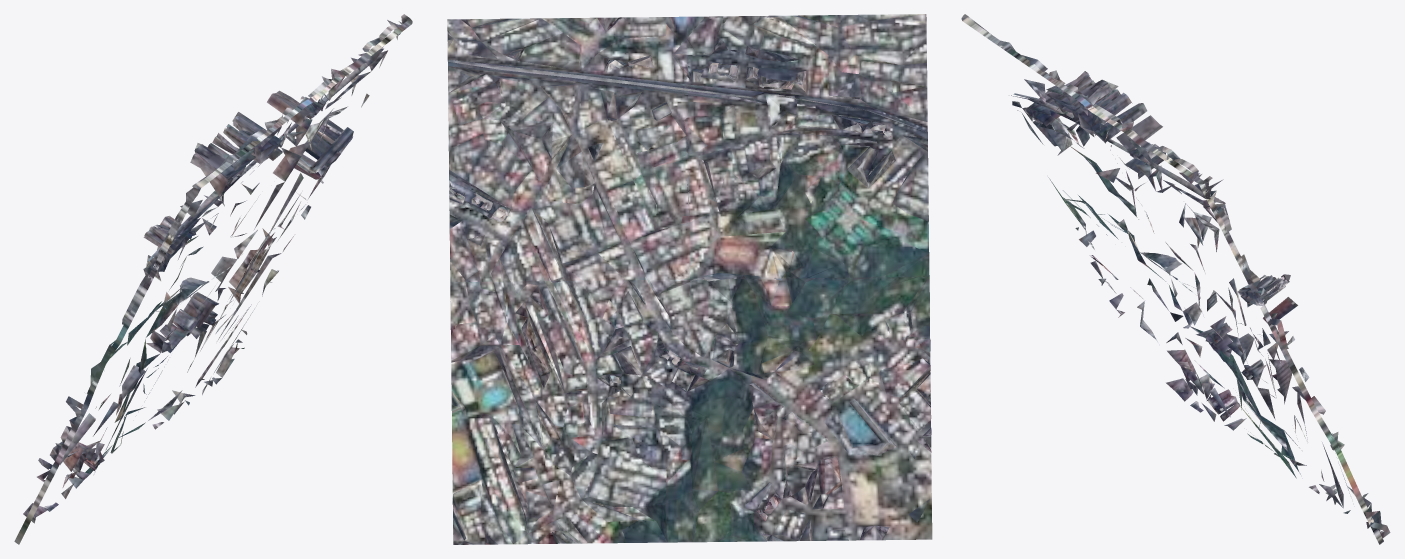
The picture shows the model from 3 angles, left to right: view 1: azimuth 30°, elevation 25°; view 2: azimuth 150°, elevation 25°; view 3: azimuth 270°, elevation 25°; orthographic projection. The views are drawn at different scales.
Size of the model in its own units: 1231 by 1118 by 1051.
Materials: 2 (2 with a texture image).
